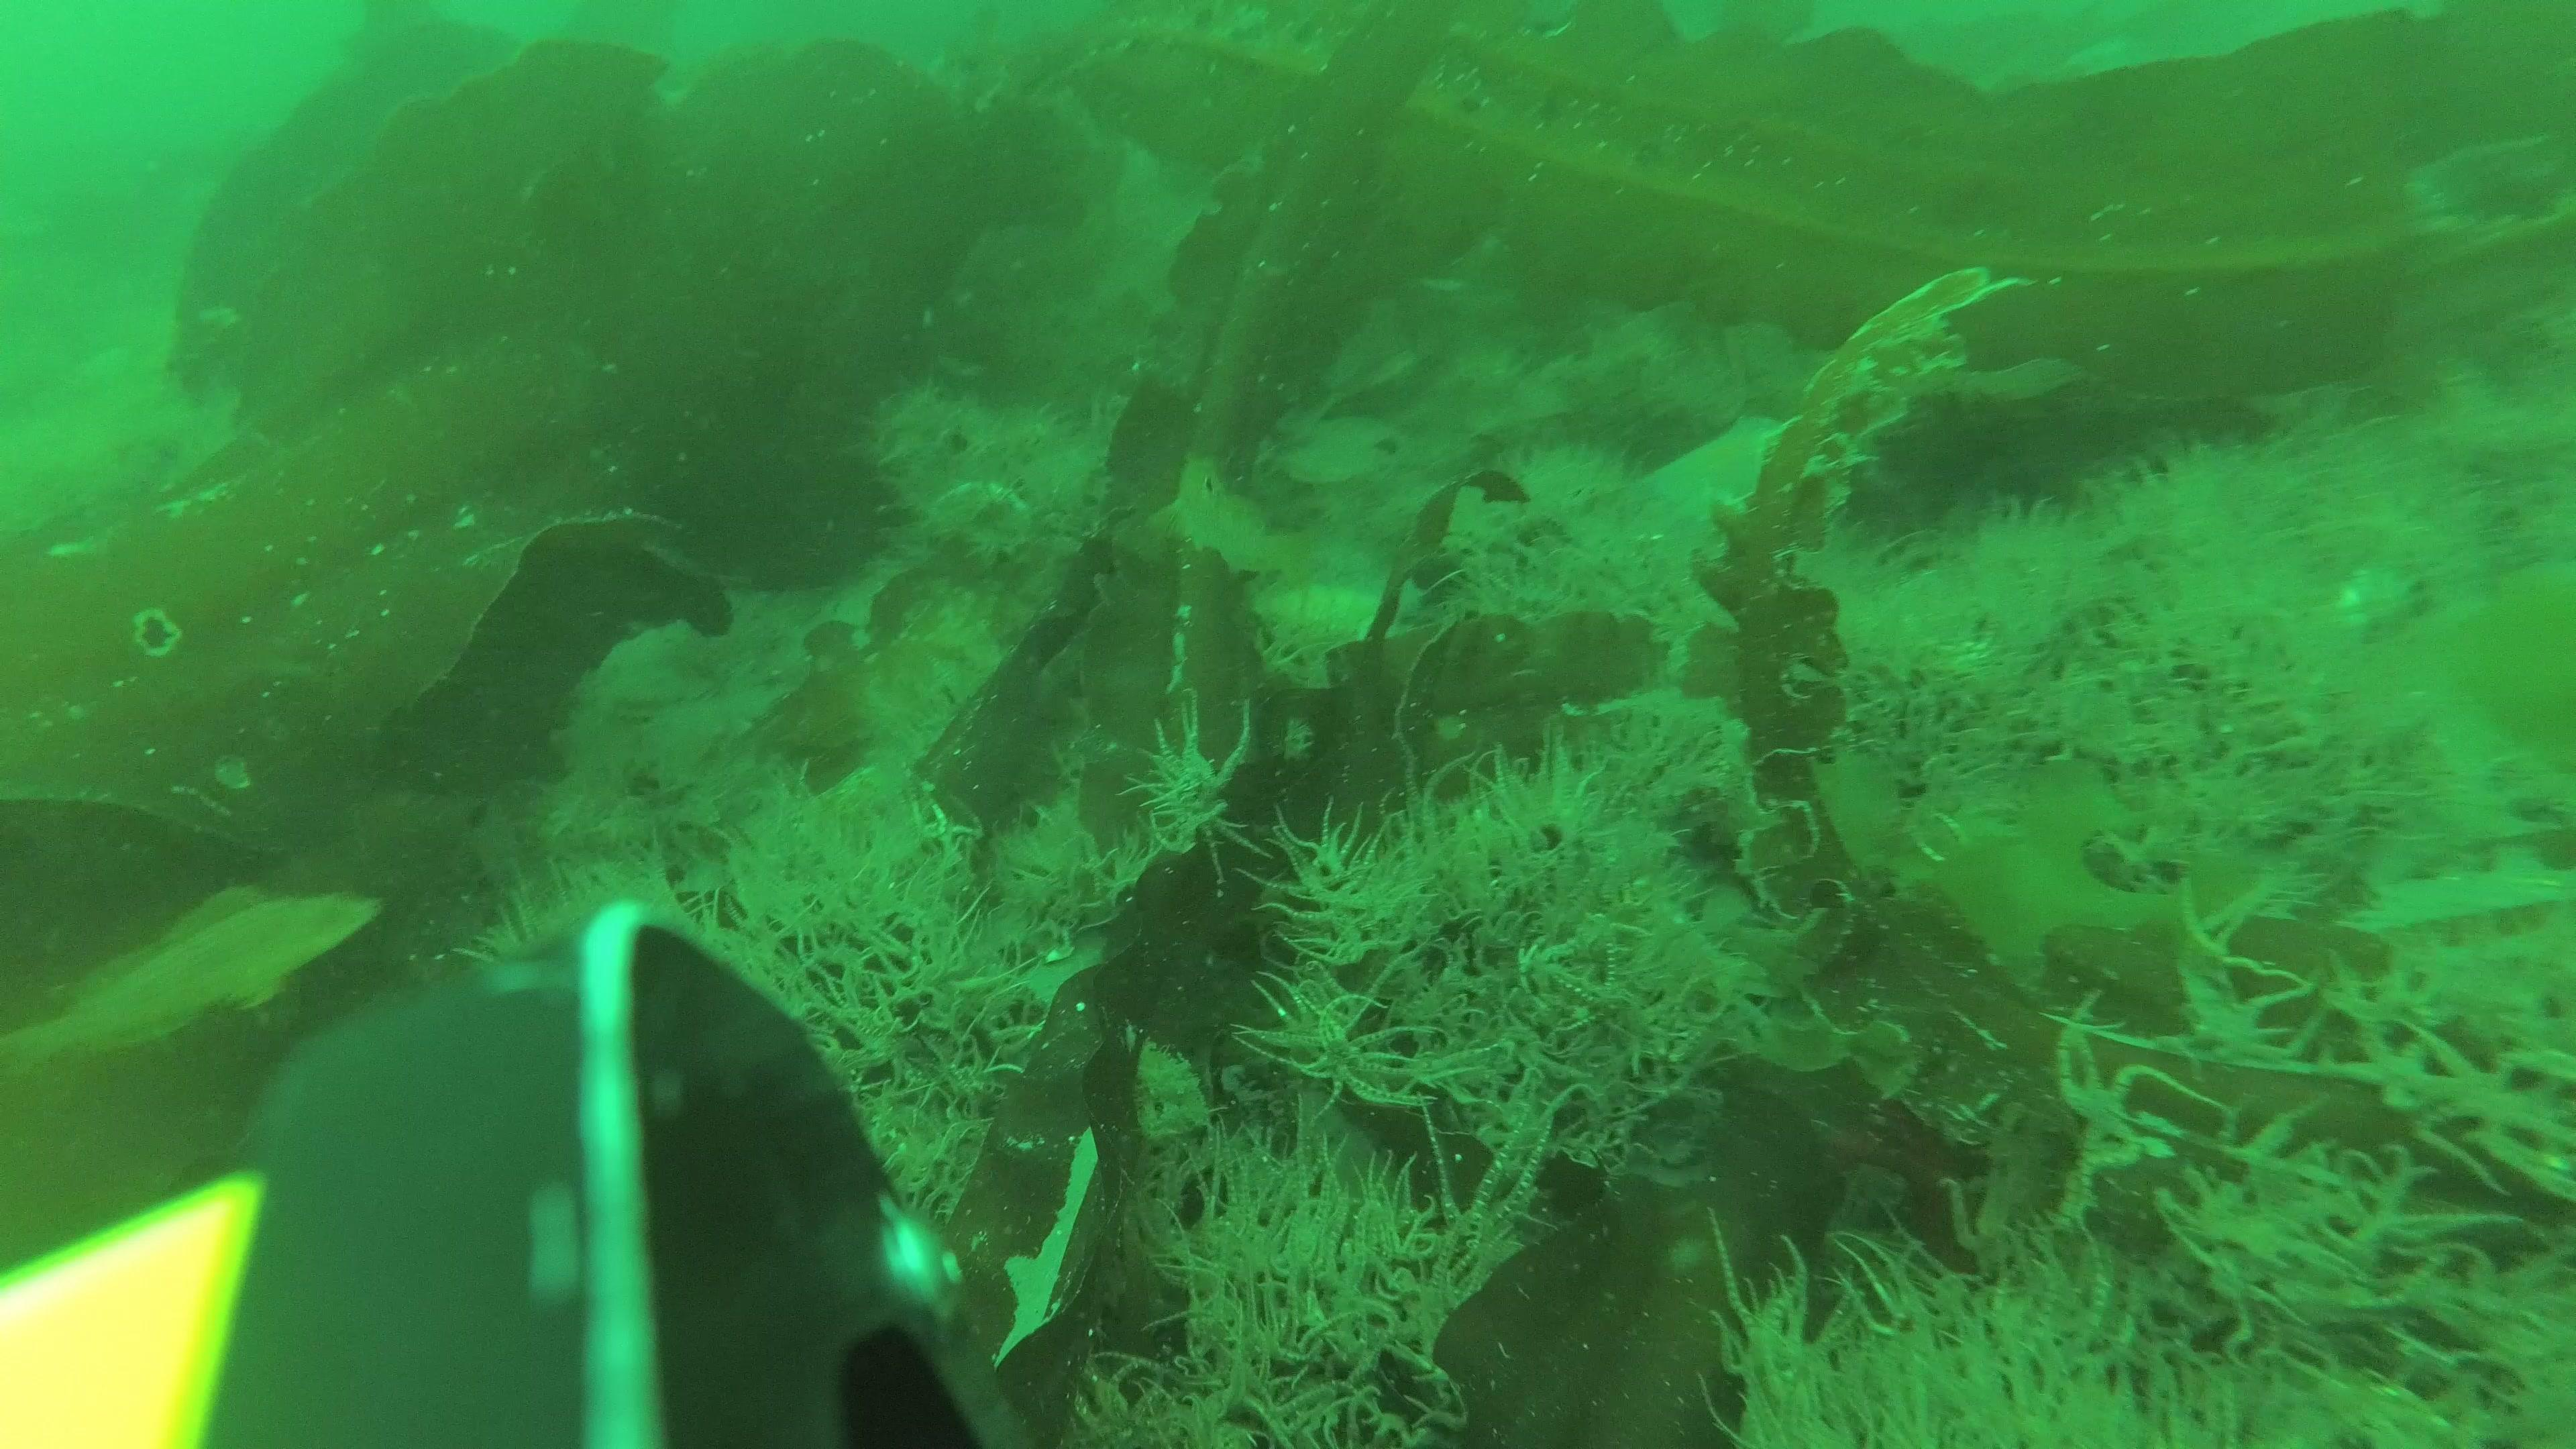starfish: (1667, 416, 1815, 522)
